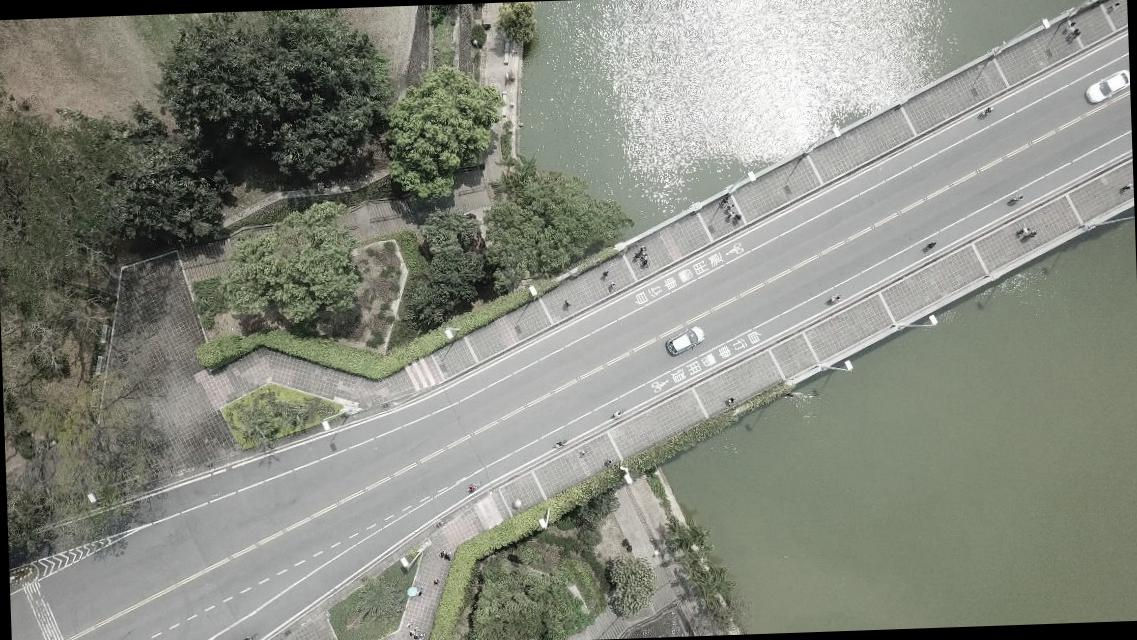vehicle: (1084, 68, 1130, 104), (664, 324, 706, 356)
